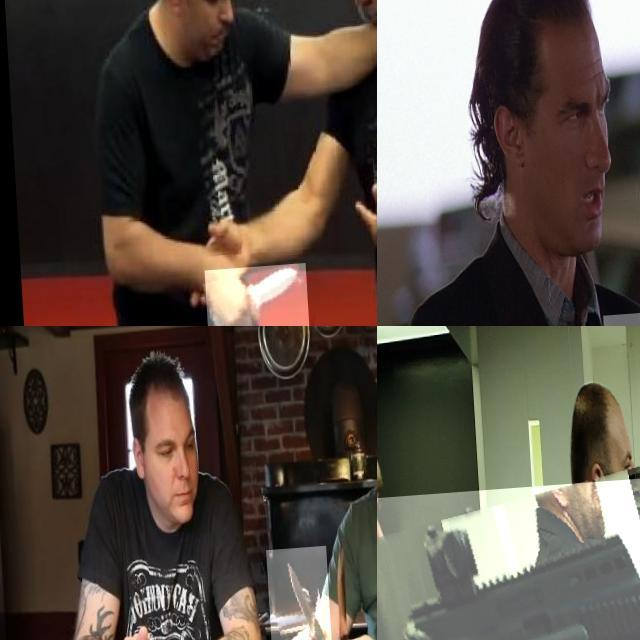-: (199, 267, 303, 326), (262, 552, 328, 640), (324, 535, 377, 640)
gun-knife-thesis - v11 Yolov5 augmented: (377, 481, 640, 640)
